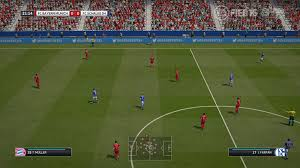player: (283, 139, 294, 160), (112, 139, 121, 160), (88, 87, 99, 104), (33, 72, 41, 89), (201, 112, 208, 130), (235, 96, 241, 114), (228, 71, 235, 86), (139, 92, 145, 108), (148, 55, 155, 67), (84, 49, 90, 60), (260, 51, 266, 62), (174, 68, 179, 81)
